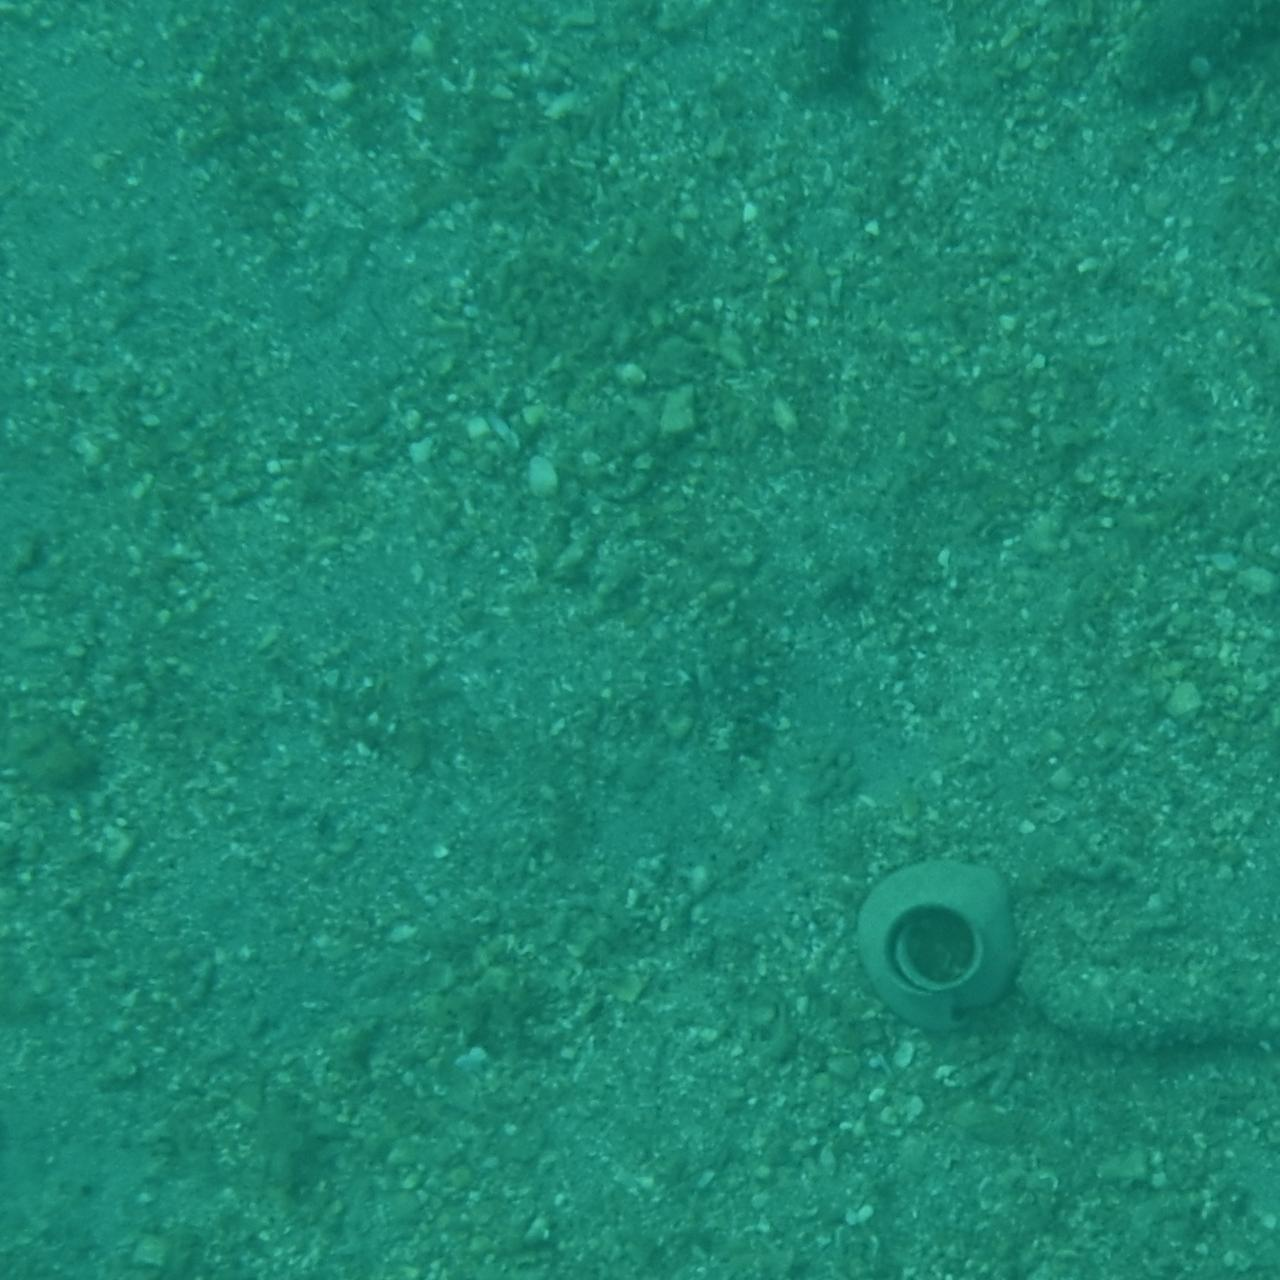Holothuria tubulosa: (1001, 932, 1280, 1123), (631, 1172, 1122, 1280), (775, 0, 949, 165), (1075, 0, 1280, 127), (0, 0, 219, 110)
